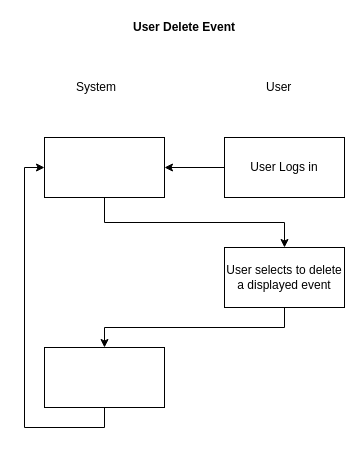
This 362x453 diagram has some shape labels left out. The centre of each missing label's shape, as x and y in pixels:
System deletes the selected event: (104,377)
System displays "Event Display" website: (104,167)
